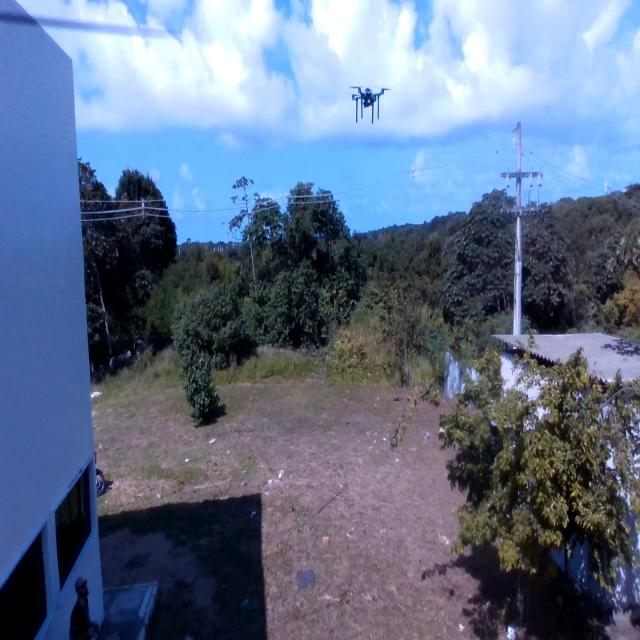-uav-: (342, 71, 392, 136)
